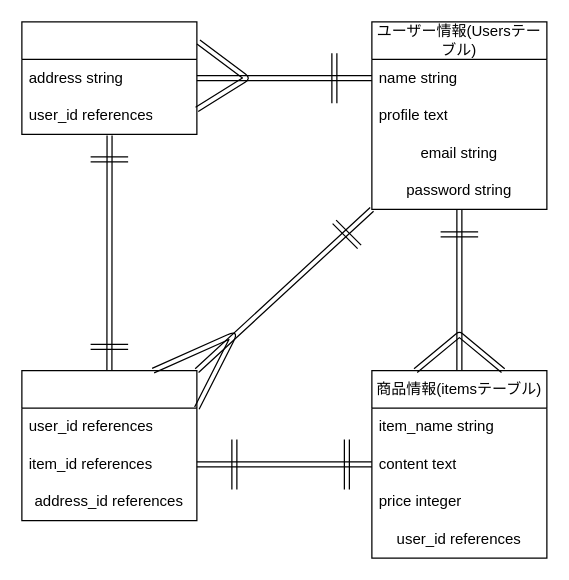
The diagram is 569 pixels wide and 580 high, and some of its shapes have lost their labels. Here are the shapes that lost their labels. From the top down, the box of each, then its label:
(21, 21, 197, 134): 発送先情報(addressesテーブル)
(21, 369, 197, 521): 購入履歴(ordersテーブル)
